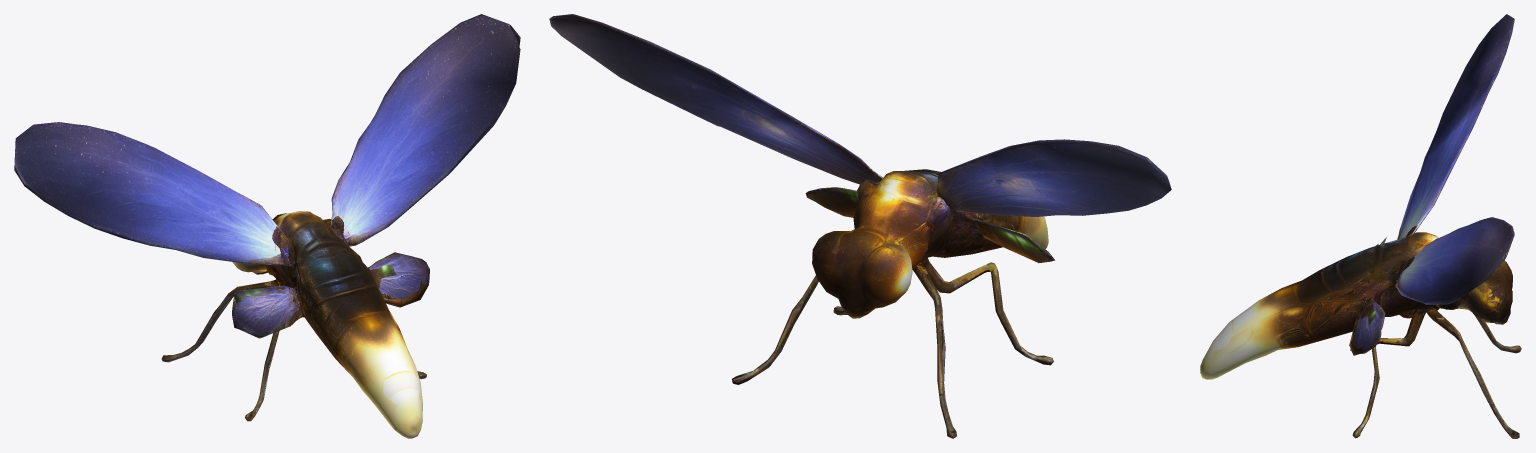
The model's file is firefly.glb.
3 renders of one model, left to right at view 1: azimuth 30°, elevation 25°; view 2: azimuth 150°, elevation 25°; view 3: azimuth 270°, elevation 25°, orthographic. The views are drawn at different scales.
Visible parts, largest first — view 1: Mesh_0.002; view 2: Mesh_0.002; view 3: Mesh_0.002.
Part boxes in pixels (x1,y1,x2,y2): Mesh_0.002: [14, 14, 520, 438]; Mesh_0.002: [549, 14, 1171, 438]; Mesh_0.002: [1200, 14, 1521, 438].
Size of the model in its own units: 1.98 by 1.01 by 1.1.
1 material, 1 textured.
